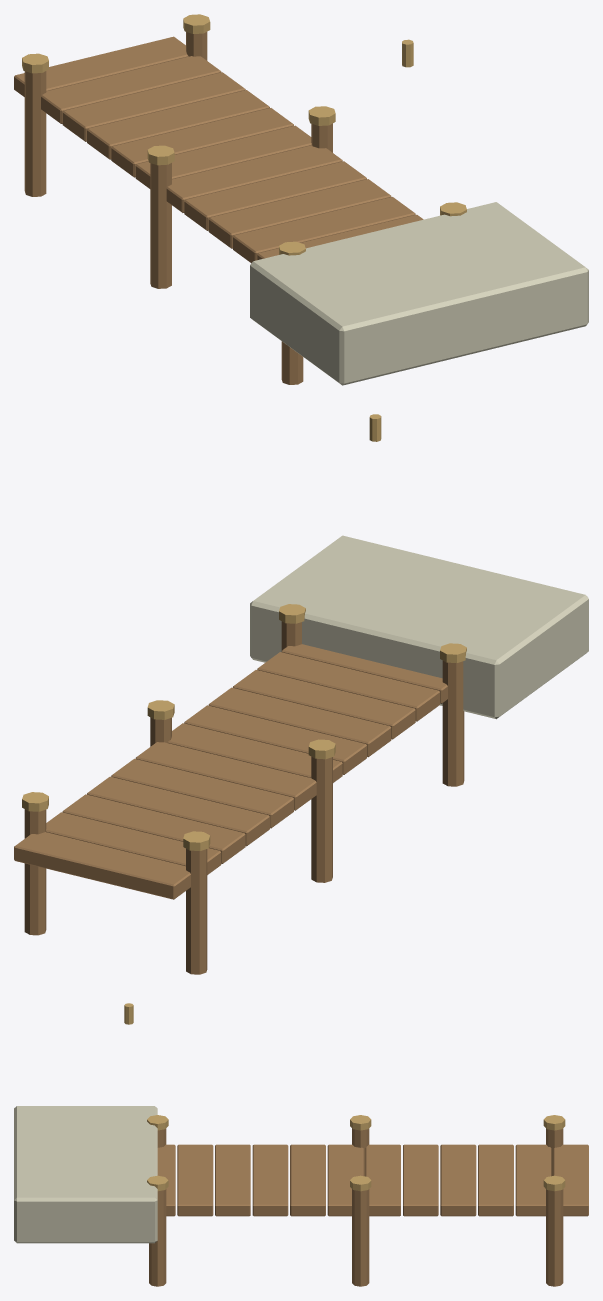
File: level_05.glb
3 renders of one model, top to bottom at view 1: azimuth 30°, elevation 25°; view 2: azimuth 150°, elevation 25°; view 3: azimuth 270°, elevation 25°, orthographic. The views are drawn at different scales.
Visible parts, largest first — view 1: dock — level 05; view 2: dock — level 05; view 3: dock — level 05.
Boxes of the visible parts, x1,y1,x2,y2 form: dock — level 05: (14, 14, 588, 385); dock — level 05: (14, 414, 588, 974); dock — level 05: (14, 1003, 588, 1286).
Size of the model in its own units: 3.1 by 3.9 by 8.
